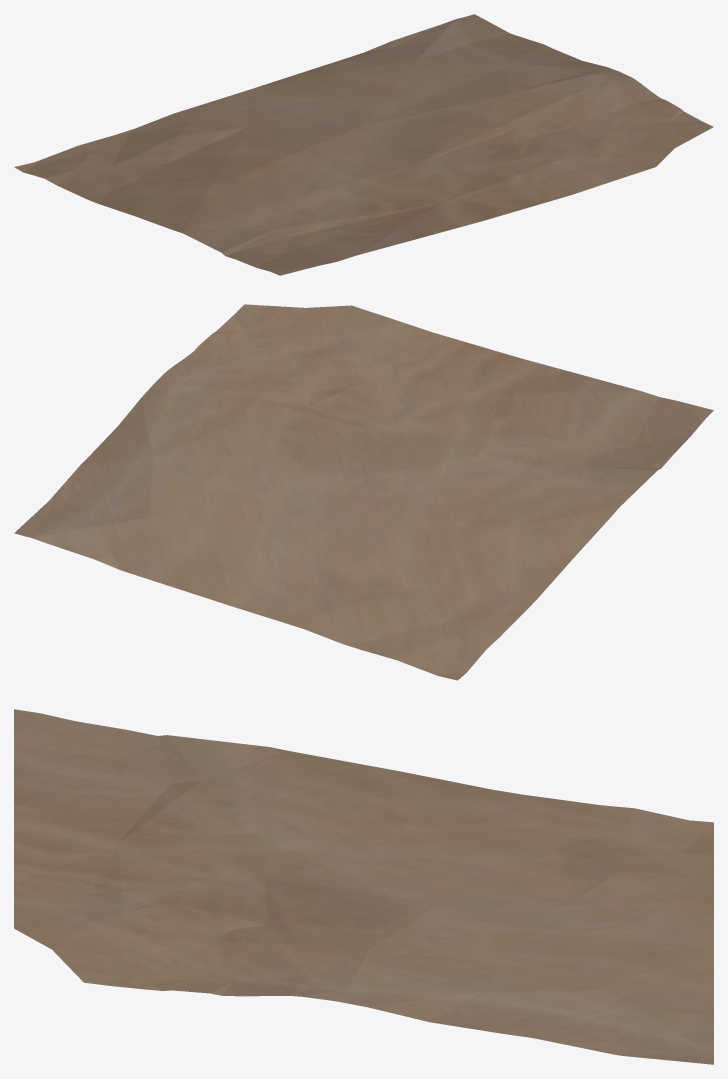
The picture shows the model from 3 angles, top to bottom: view 1: azimuth 30°, elevation 25°; view 2: azimuth 150°, elevation 25°; view 3: azimuth 270°, elevation 25°; orthographic projection. The views are drawn at different scales.
Bounding box in the file's own units: 1.04 × 0.2234 × 1.04.
3 materials, 3 textured.
